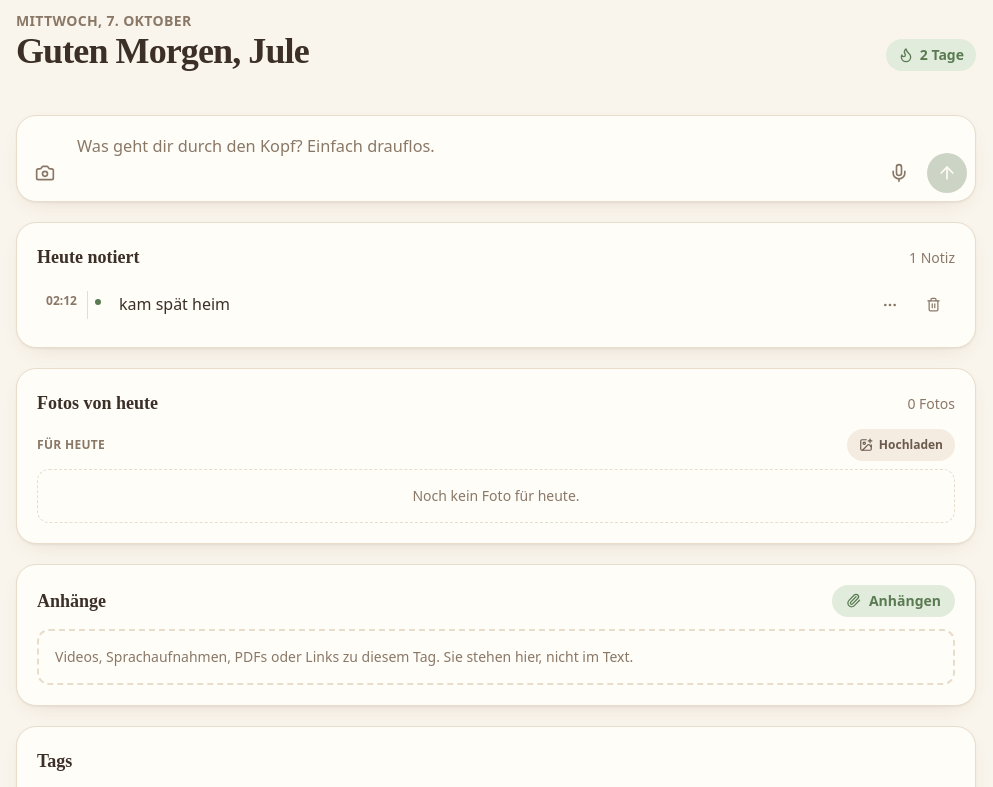
Test: moving a note › moves it to the day before from its menu, takes it off the list and says where it went
Click the button named "Mehr zur Notiz": (890, 305) [876,291,904,319]
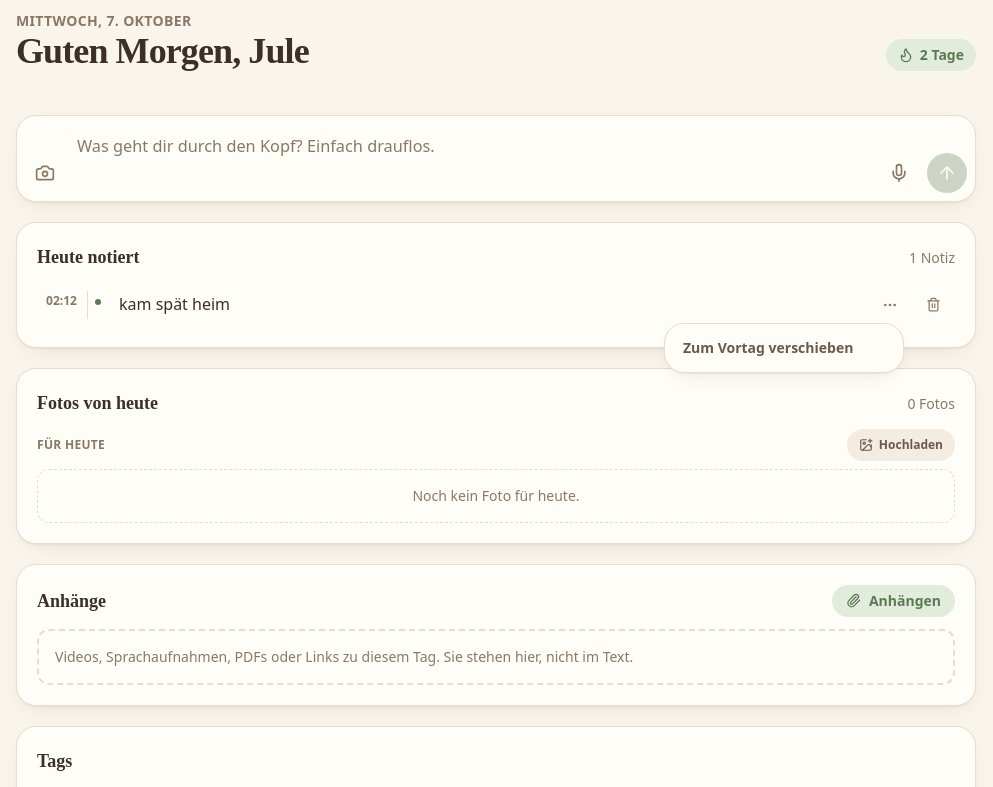
Click the menu item "Zum Vortag verschieben": (784, 348) [671,330,897,366]
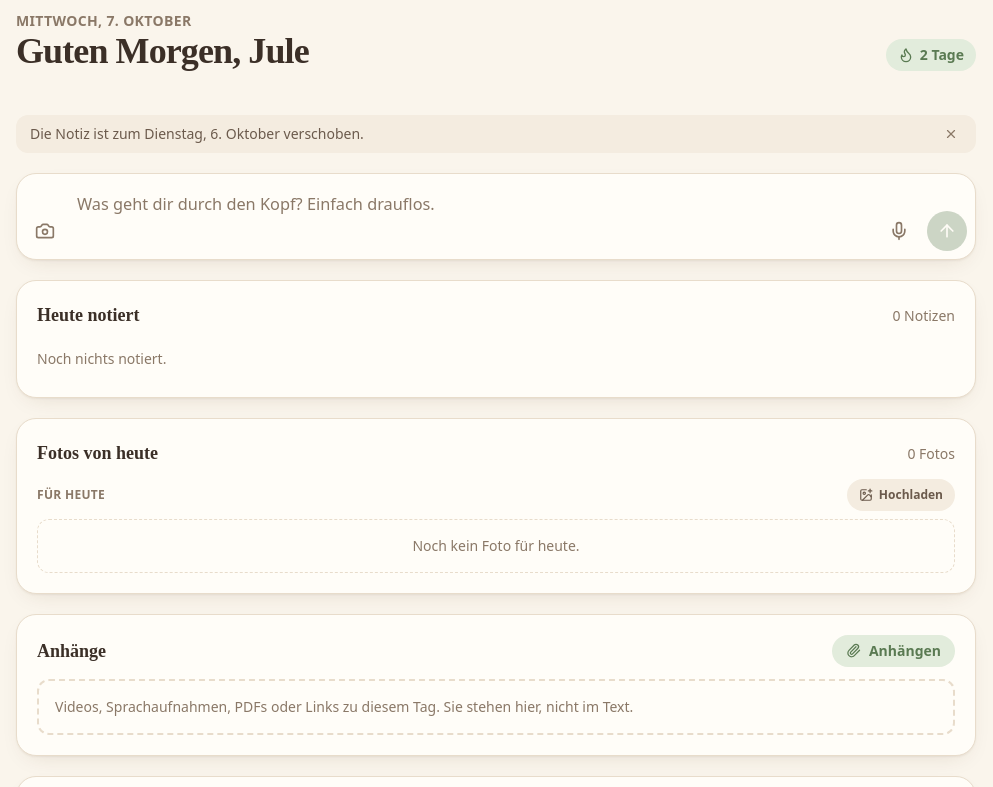
Now the text "kam spät heim" is gone
